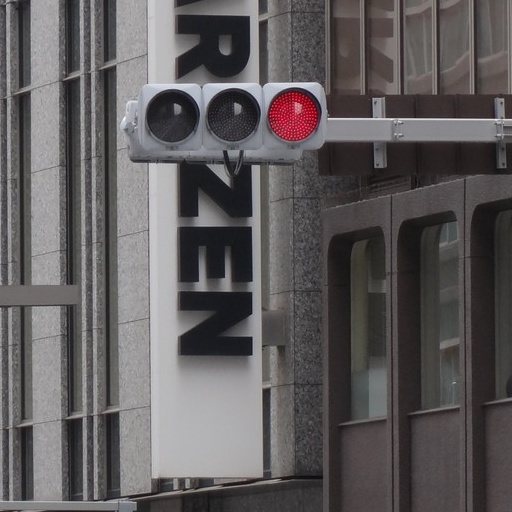Traffic_Signal_Red: (139, 82, 329, 159)
